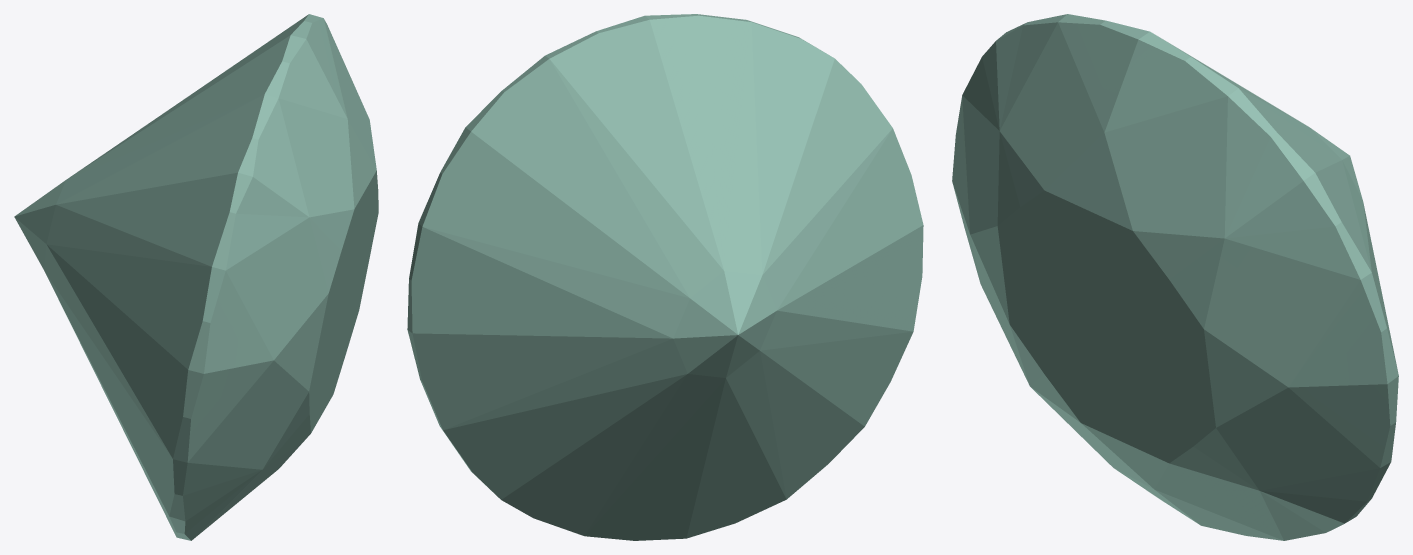
The model's file is TR3_8shapes_Round_Classic_Stone.001 2.glb.
3 views of the same model, side by side, from view 1: azimuth 30°, elevation 25°; view 2: azimuth 150°, elevation 25°; view 3: azimuth 270°, elevation 25° (orthographic). The views are drawn at different scales.
Visible parts, largest first — view 1: TR3_8shapes_Round_Classic_Stone.001; view 2: TR3_8shapes_Round_Classic_Stone.001; view 3: TR3_8shapes_Round_Classic_Stone.001.
Boxes of the visible parts, x1,y1,x2,y2 form: TR3_8shapes_Round_Classic_Stone.001: (14, 14, 378, 540); TR3_8shapes_Round_Classic_Stone.001: (407, 14, 923, 540); TR3_8shapes_Round_Classic_Stone.001: (952, 14, 1398, 540).
Size of the model in its own units: 0.3675 by 0.5251 by 0.4063.
